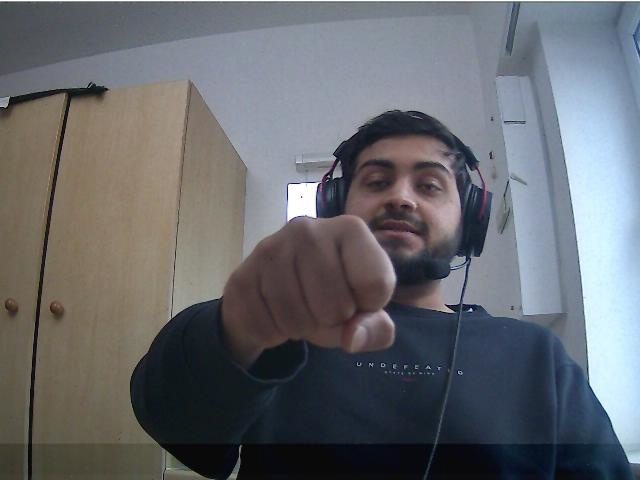hold: (223, 212, 398, 355)
